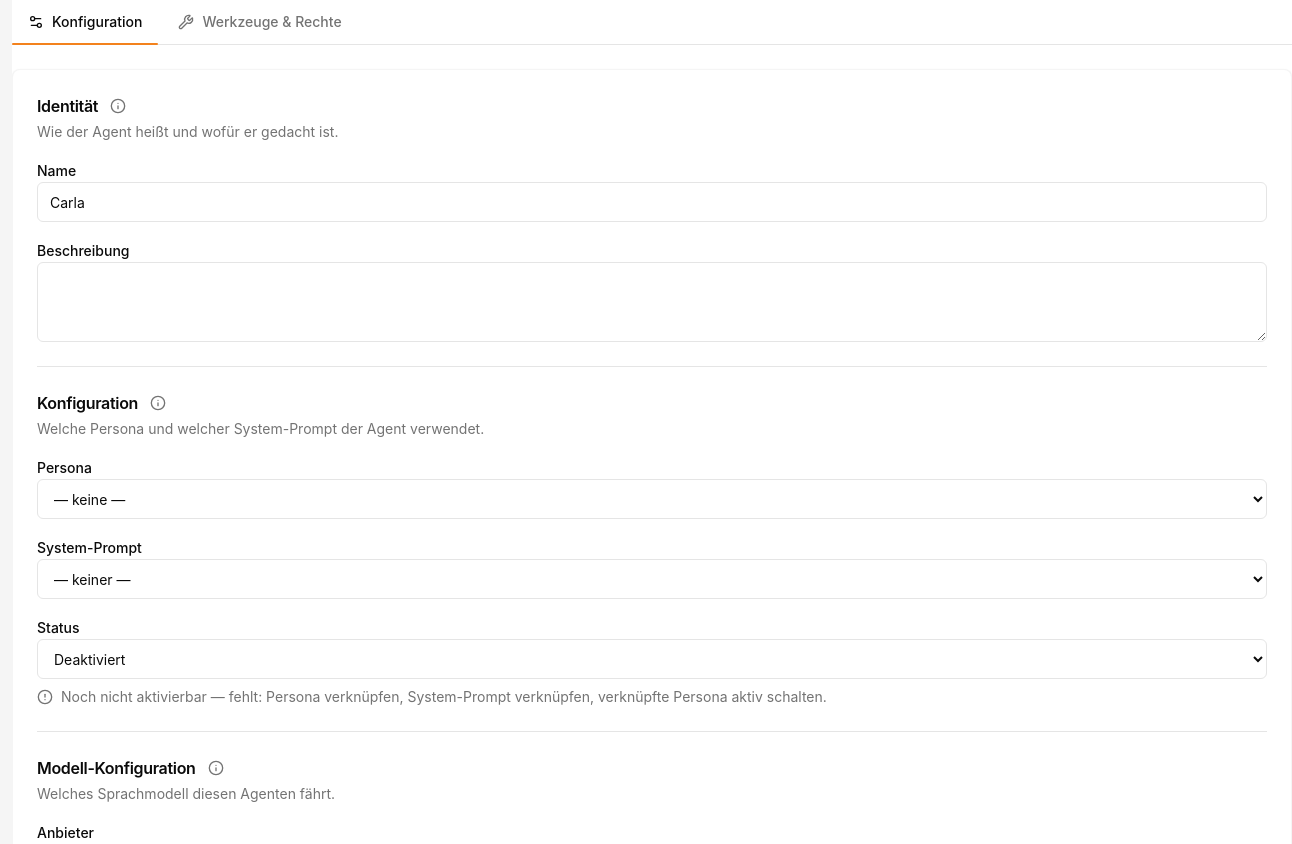
Scenario: AgentEditorForm › setzt bei Preset-Klick „Editor ohne Freigabe“ die erwarteten Checkboxen (Issue #394)
The width and height of the screenshot is (1292, 844).
Click the tab "Werkzeuge & Rechte": (260, 22) 162,0 -> 358,44
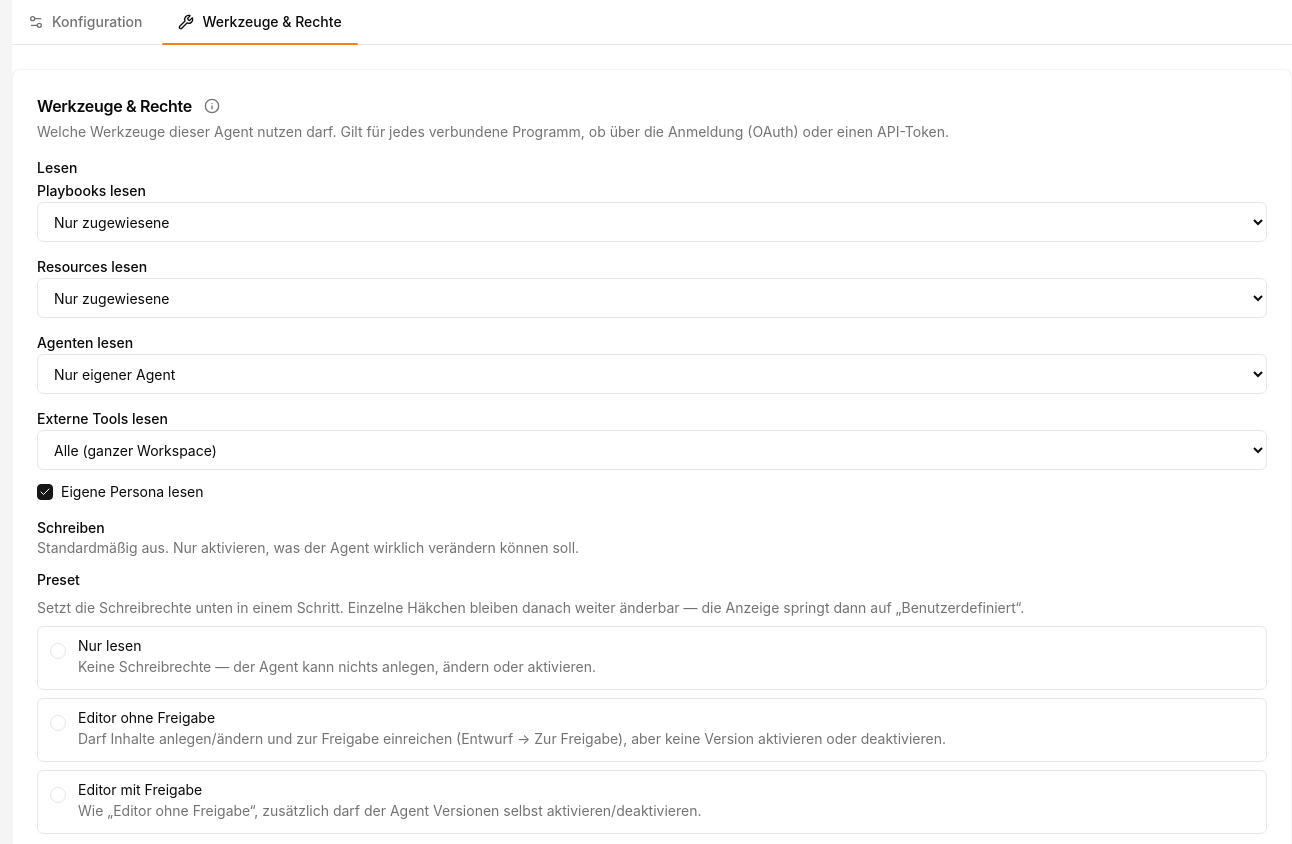
Click the 2nd radio button named "Editor ohne Freigabe": (58, 723) 50,715 -> 66,731
(page scrolled)
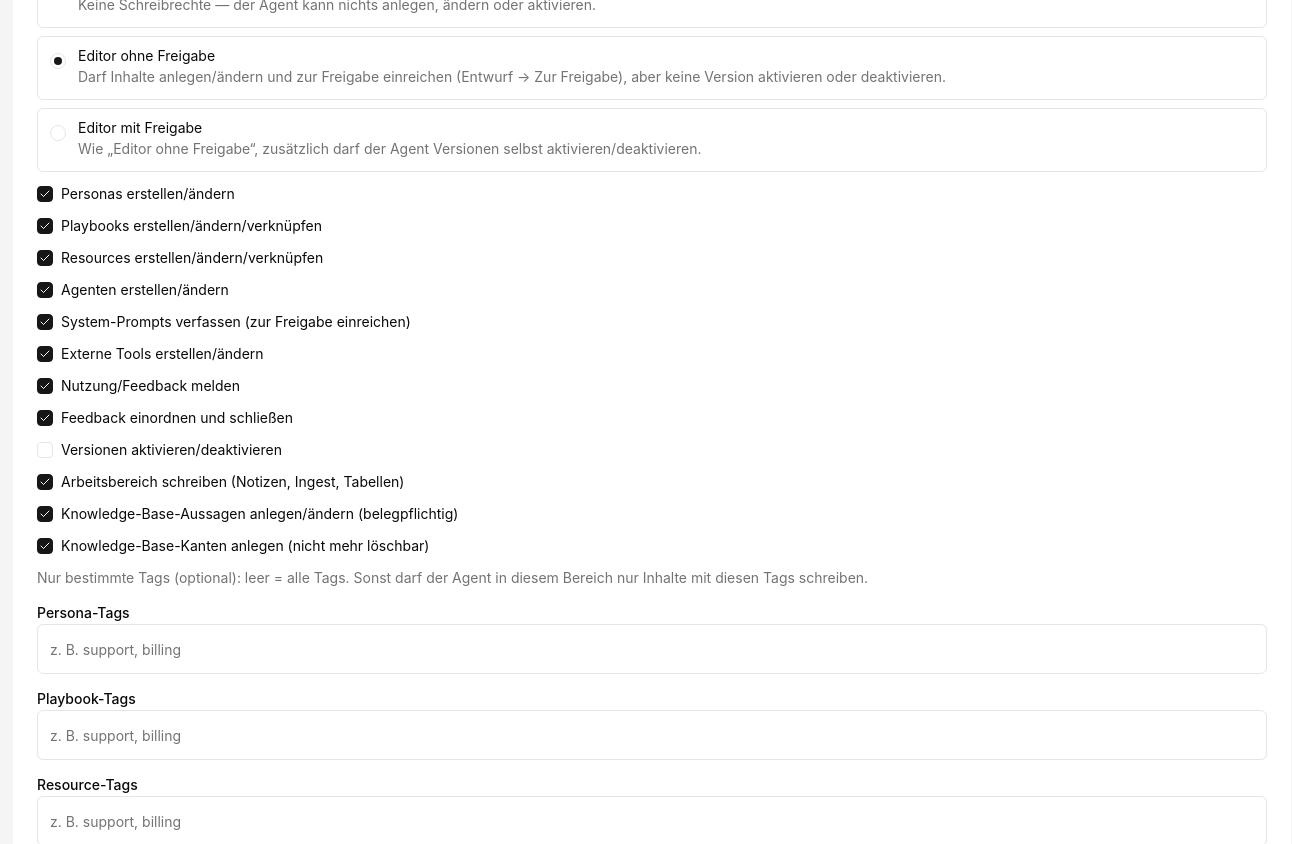
Result: the checkbox labelled "Playbooks erstellen/ändern/verknüpfen" is checked at 29,210 -> 61,242
Result: the checkbox labelled "Resources erstellen/ändern/verknüpfen" is checked at 29,242 -> 61,274
Result: the checkbox labelled "Arbeitsbereich schreiben (Notizen, Ingest, Tabellen)" is checked at 29,466 -> 61,498
